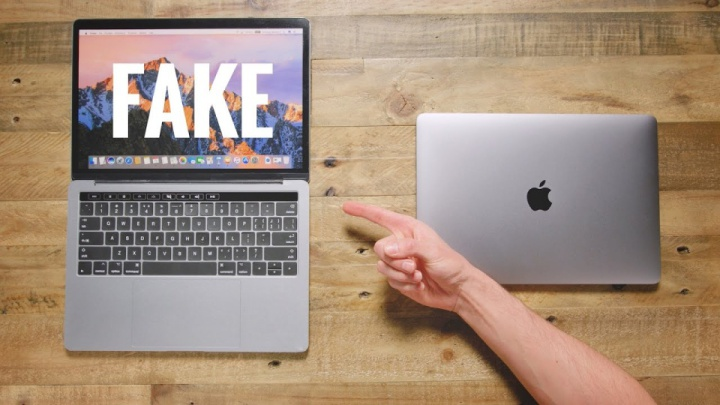apple: (518, 173, 578, 228)
